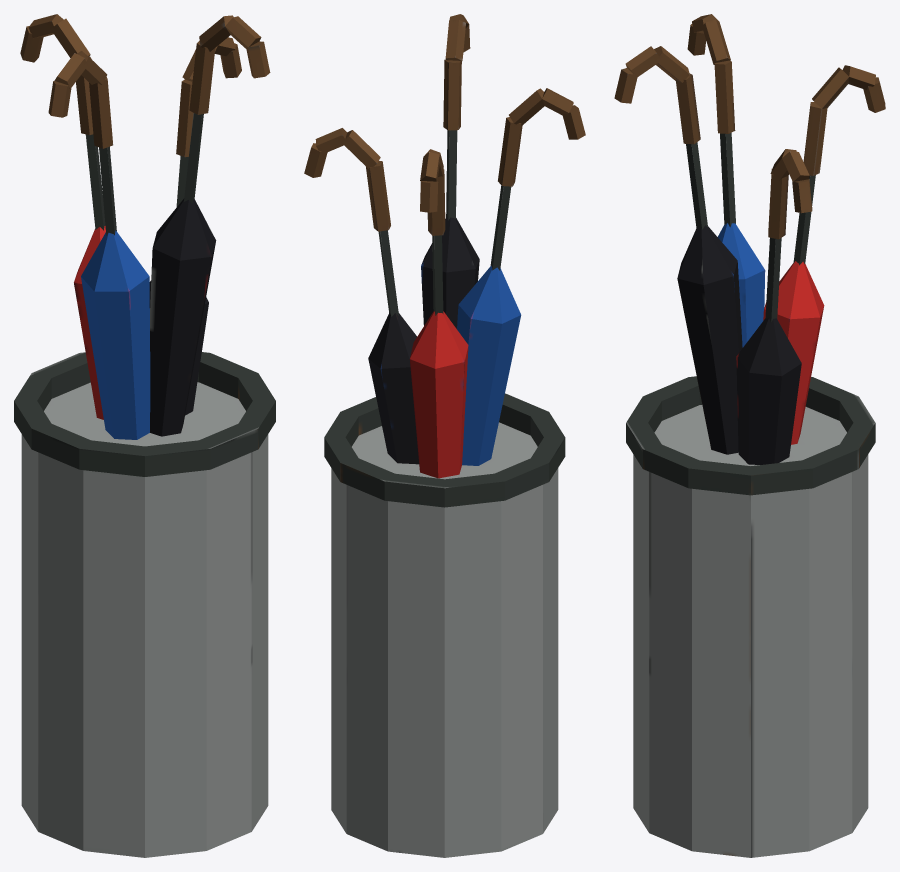
Rendered from stojan_destniku_a0180099.glb.
3 renders of one model, left to right at view 1: azimuth 30°, elevation 25°; view 2: azimuth 150°, elevation 25°; view 3: azimuth 270°, elevation 25°, orthographic. The views are drawn at different scales.
Parts seen in each view (by area): view 1: dum; view 2: dum; view 3: dum.
Boxes of the visible parts, x1,y1,x2,y2 form: dum: [14, 14, 275, 857]; dum: [304, 14, 585, 857]; dum: [614, 14, 885, 857].
Size of the model in its own units: 0.3698 by 1.17 by 0.3687.
Materials: 1 (1 with a texture image).
